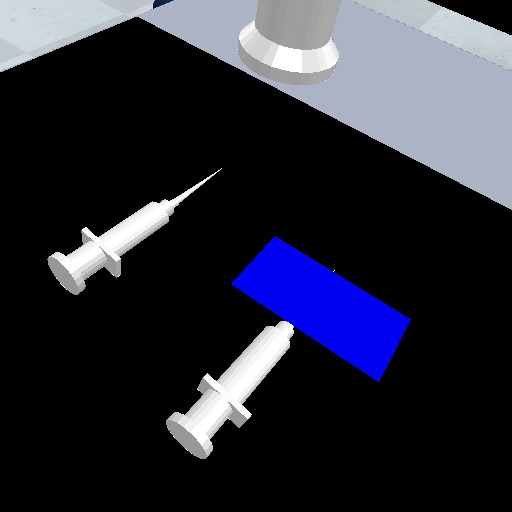jeringuilla: (32, 161, 224, 301), (162, 318, 298, 463)
